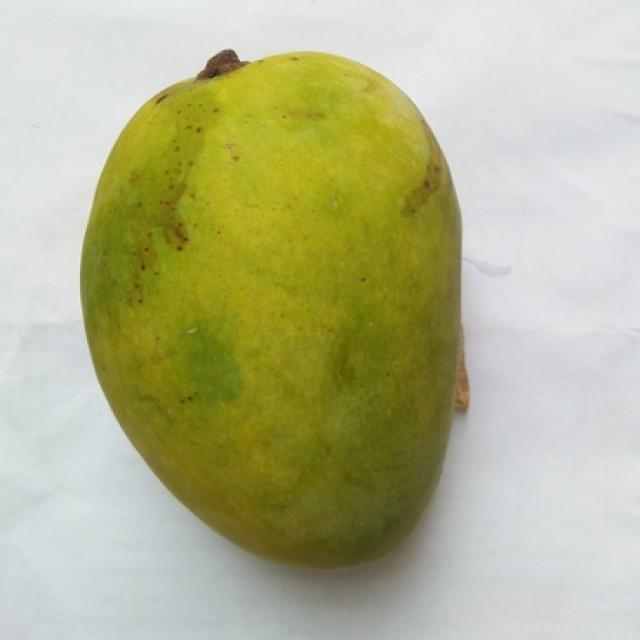Mango: (82, 53, 463, 564)
